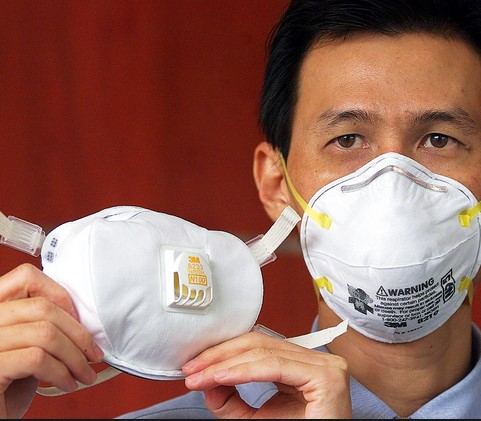face_with_mask: (251, 5, 481, 346)
